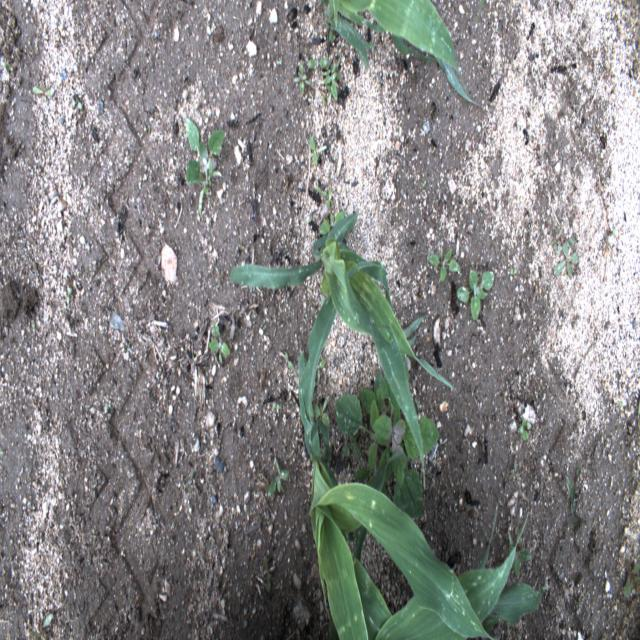crop: (226, 208, 458, 484), (306, 451, 552, 638), (318, 0, 484, 111)
weed: (331, 361, 440, 524), (185, 117, 225, 216), (455, 268, 493, 322), (427, 246, 461, 285), (552, 235, 578, 278), (318, 56, 341, 103), (207, 319, 230, 365), (266, 456, 290, 496), (296, 58, 316, 96), (32, 610, 54, 639), (309, 133, 323, 169), (315, 185, 332, 210), (518, 415, 532, 444), (32, 85, 56, 99), (283, 351, 295, 373), (63, 288, 74, 308), (70, 96, 84, 110), (103, 395, 115, 409), (509, 267, 517, 275)
